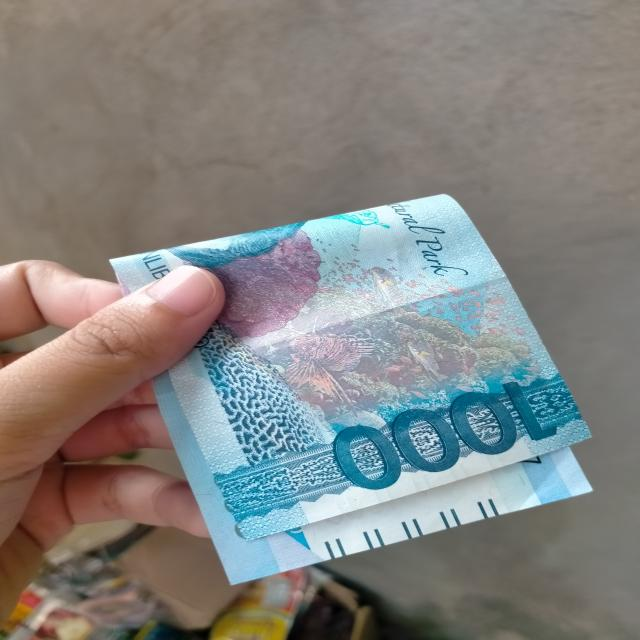value: (313, 373, 586, 489)
